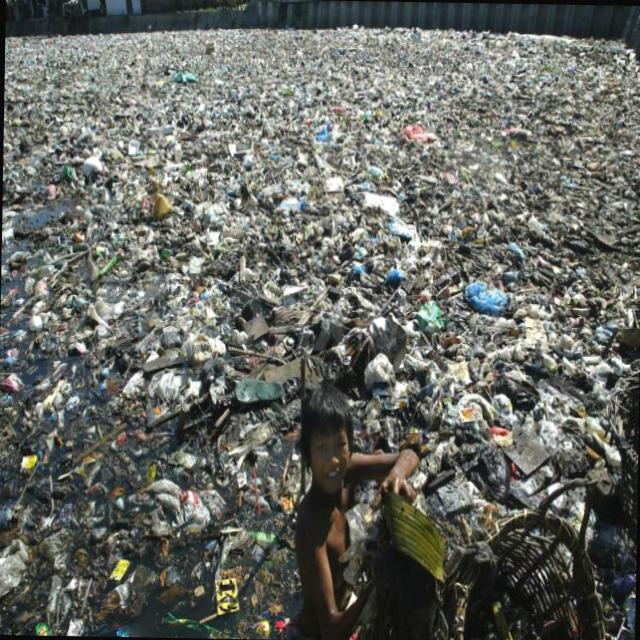garbage: (0, 23, 636, 387), (0, 381, 299, 639), (369, 382, 638, 640)
